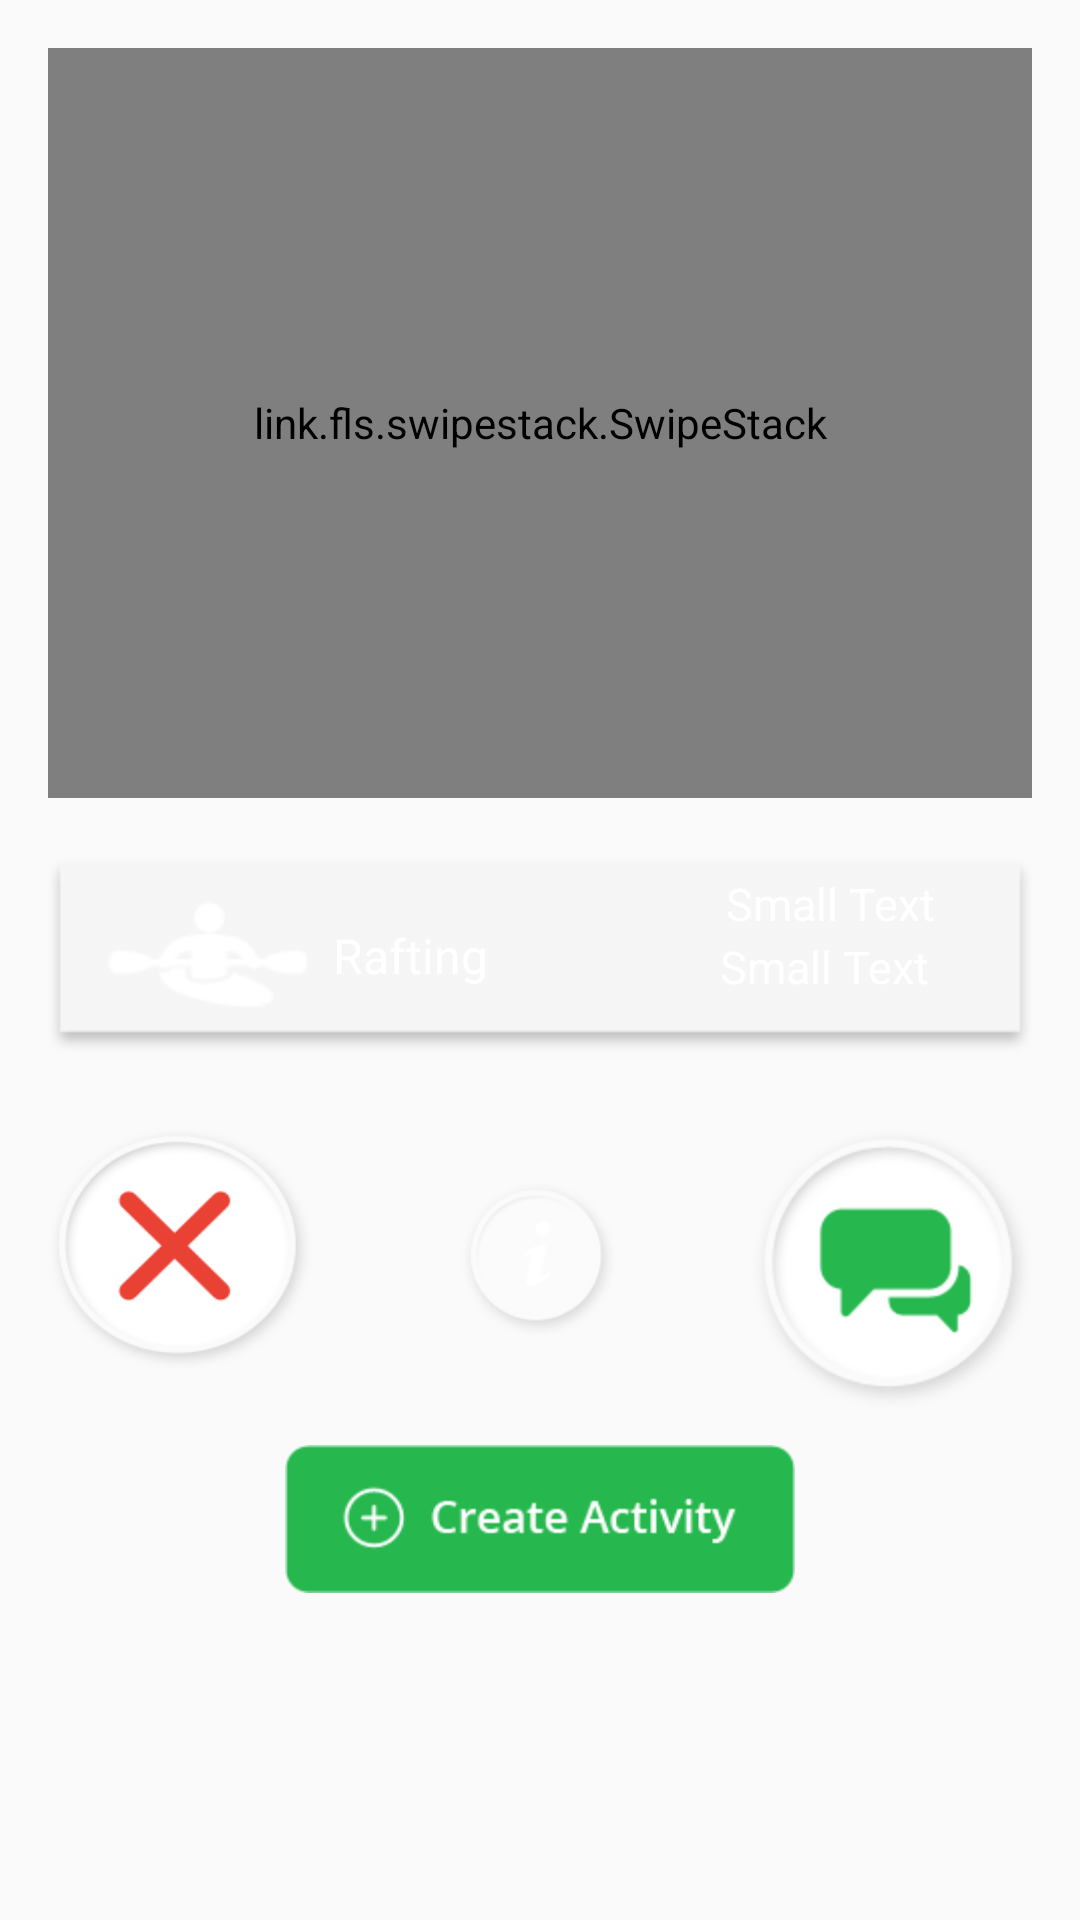

Screen size 1080x1920. Icon name, then its center in pixels as [x,y]:
dislike: [182,1249]
message: [897,1269]
